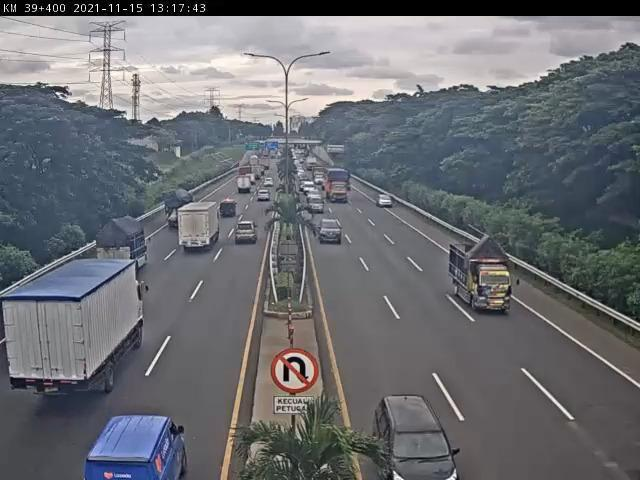car: (375, 396, 462, 480), (234, 220, 261, 246), (376, 191, 396, 211)
truck: (1, 253, 147, 395), (450, 237, 516, 315), (97, 218, 151, 273), (177, 201, 223, 254), (164, 187, 199, 229), (324, 166, 352, 204), (219, 196, 239, 219)
